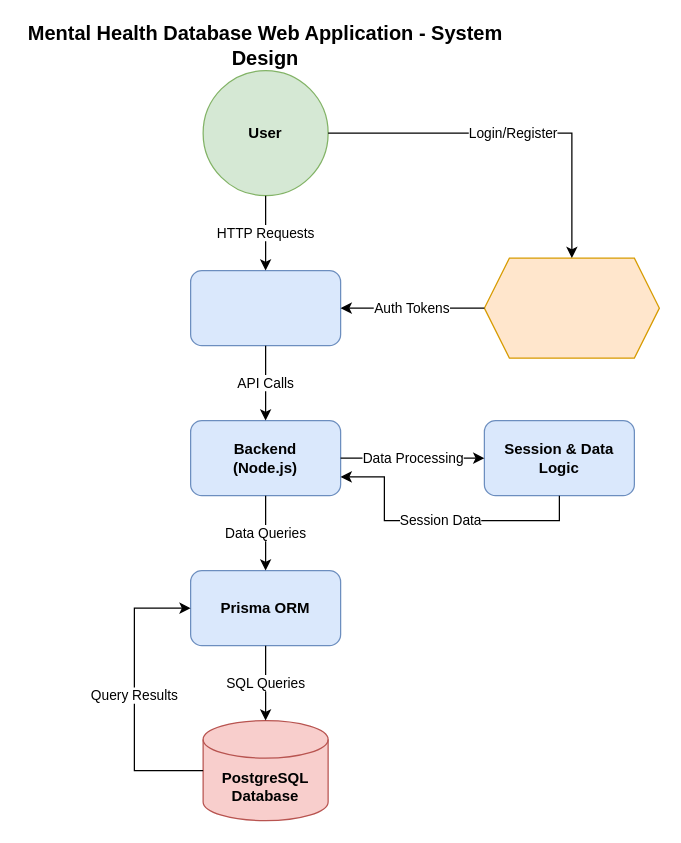
Some shapes in this 681 by 843 pixel diagram are drawn without their labels. Each missing label, with the centre of its shape:
"Authentication Layer (Role-based)" belongs at (x=571, y=307).
"Frontend (Next.js)" belongs at (x=265, y=307).
